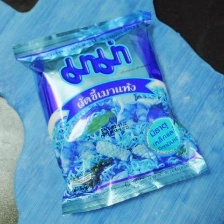snack: (6, 4, 216, 221)
